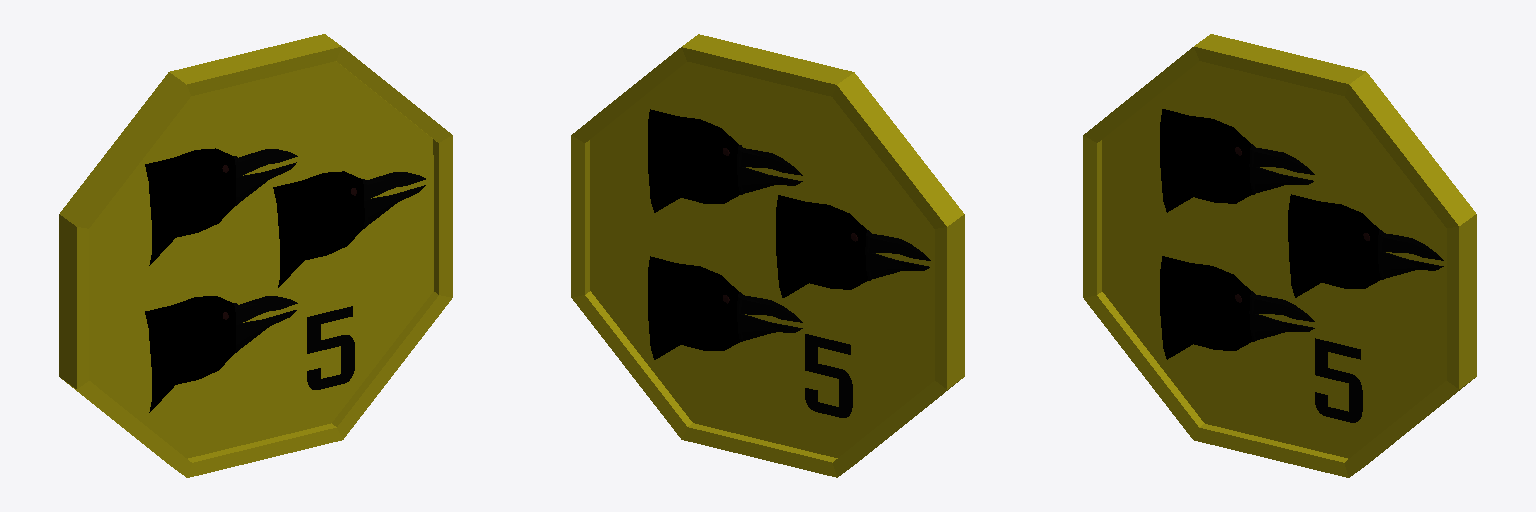
The model's file is threeCrowButton.obj.
The picture shows the model from 3 angles: view 1: azimuth 30°, elevation 25°; view 2: azimuth 150°, elevation 25°; view 3: azimuth 330°, elevation 25°; orthographic projection.
Visible parts, largest first — view 1: coin_crow345; view 2: coin_crow345; view 3: coin_crow345.
Boxes of the visible parts, <box> form: coin_crow345: <box>59,34,452,477</box>; coin_crow345: <box>571,34,964,477</box>; coin_crow345: <box>1083,34,1476,477</box>.
Bounding box in the file's own units: 0.3853 × 0.3853 × 0.0321.